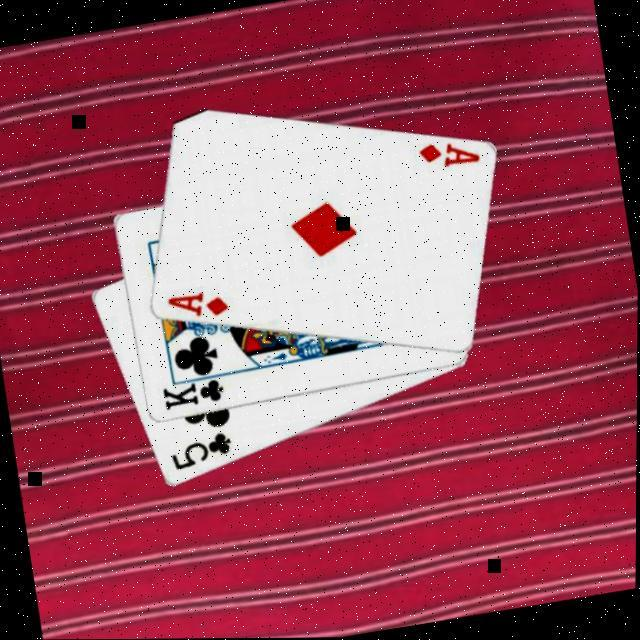5C: (168, 430, 240, 476)
AD: (164, 286, 233, 328), (415, 134, 484, 176)
KC: (159, 370, 235, 415)
